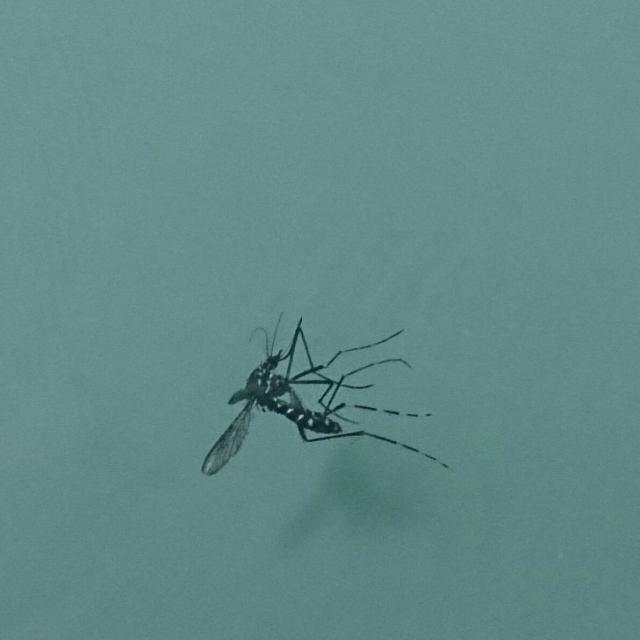albopictus: (202, 299, 443, 480)
